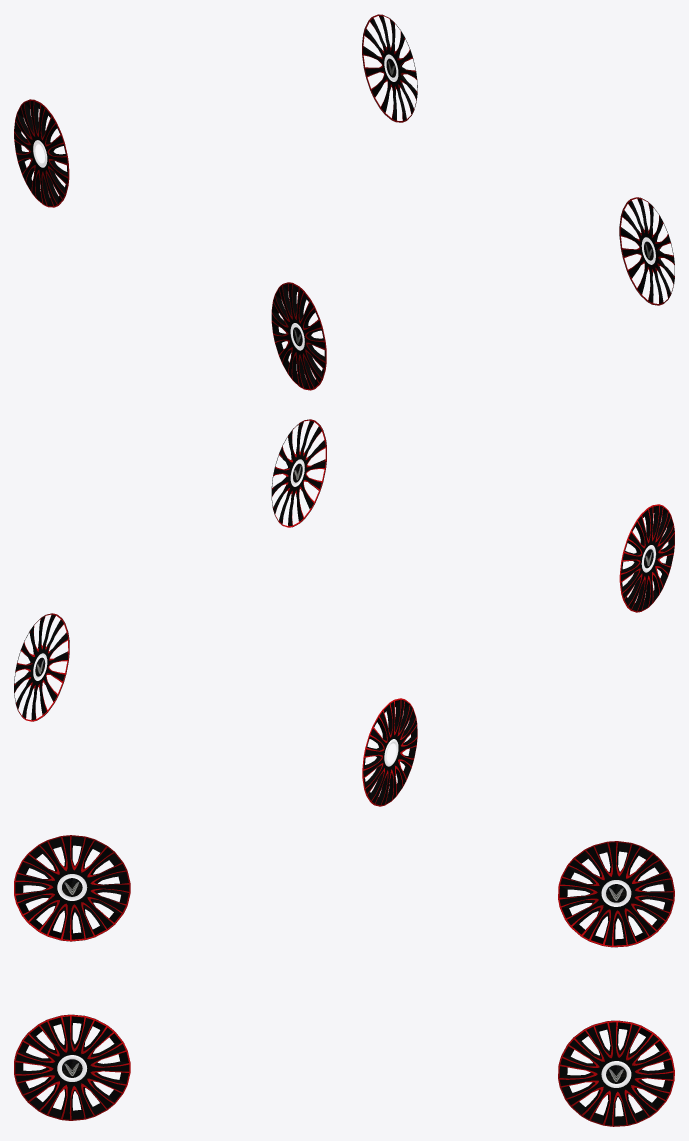
The picture shows the model from 3 angles, top to bottom: view 1: azimuth 30°, elevation 25°; view 2: azimuth 150°, elevation 25°; view 3: azimuth 270°, elevation 25°; orthographic projection. The views are drawn at different scales.
Parts seen in each view (by area): view 1: 4; view 2: 4; view 3: 4.
Part boxes in pixels (box(x1,y1,x2,y2)): 4: box(14, 14, 674, 390); 4: box(14, 419, 674, 806); 4: box(14, 835, 674, 1126).
Bounding box in the file's own units: 0.9953 × 0.2853 × 1.53.
4 materials, 1 textured.
